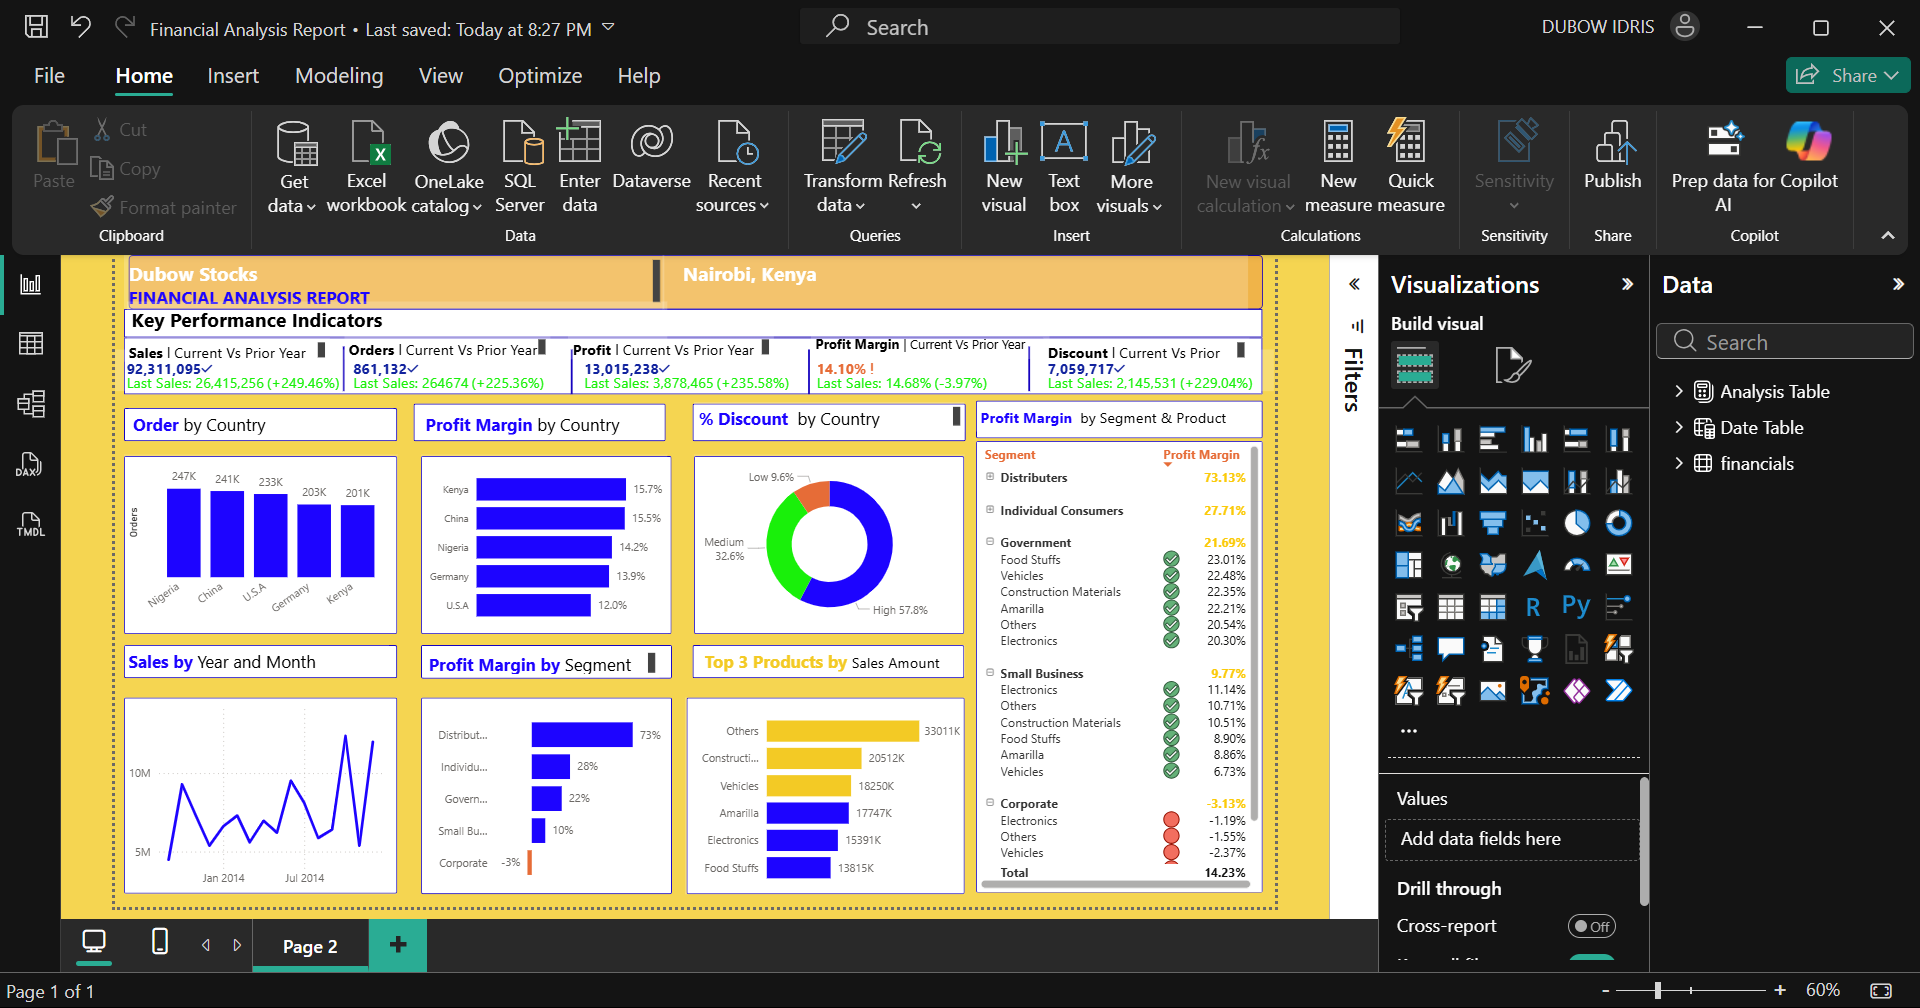

What the dashboard file says about the page in this screenshot:
{"tool":"powerbi","page":{"name":"Page 2","canvas":[1280,720],"ordinal":0},"visuals":[{"type":"shape","box":[950,206.1,316.7,498.9],"z":0},{"type":"shape","box":[14.3,0,1252.9,60],"z":1000},{"type":"shape","box":[10,60,1257.1,31.4],"z":2000},{"type":"shape","box":[10,221.7,301.7,196.7],"z":3000},{"type":"shape","box":[640,221.7,298.3,196.7],"z":4000},{"type":"shape","box":[10,488.3,301.7,216.7],"z":5000},{"type":"shape","box":[338.3,221.7,276.7,196.7],"z":6000},{"type":"shape","box":[631.4,488.6,307.1,217.1],"z":7000},{"type":"shape","box":[338.6,488.6,277.1,217.1],"z":8000},{"type":"shape","box":[10,91.4,1257.1,62.9],"z":9000},{"type":"shape","box":[10,430,301.7,36.7],"z":10000},{"type":"shape","box":[10,168.3,301.7,36.7],"z":11000},{"type":"shape","box":[638.3,163.3,301.7,41.7],"z":12000},{"type":"shape","box":[330,163.3,278.3,41.7],"z":13000},{"type":"shape","box":[338.6,430,277.1,37.1],"z":14000},{"type":"shape","box":[638.3,430,300,36.7],"z":15000},{"type":"textbox","box":[10,0,596.7,60],"z":16000},{"type":"textbox","box":[13.3,51.7,596.7,50],"z":17000},{"type":"kpi","fields":{"Indicator":["Analysis Table.Sales Amount"],"TrendLine":["Date Table.Year"],"Goal":["Analysis Table.Sales Amount Last Year"]},"box":[0,104.6,256.9,46.3],"z":18000},{"type":"textbox","box":[10.5,91.1,227.1,26.9],"z":19000},{"type":"shape","box":[237.5,101.6,31.4,49.3],"z":20000},{"type":"kpi","fields":{"Indicator":["Analysis Table.Orders"],"TrendLine":["Date Table.Year"],"Goal":["Analysis Table.Orders Last Year"]},"box":[249.8,104.6,262.9,46.3],"z":21000},{"type":"kpi","fields":{"Indicator":["Analysis Table.Profit"],"TrendLine":["Date Table.Year"],"Goal":["Analysis Table.Profit Last Year"]},"box":[505.6,104.6,262.9,46.3],"z":22000},{"type":"kpi","fields":{"TrendLine":["Date Table.Year"],"Indicator":["Analysis Table.Profit Margin"],"Goal":["Analysis Table.Profit Margin Last Year"]},"box":[761.5,104.6,262.9,46.3],"z":23000},{"type":"kpi","fields":{"Indicator":["Analysis Table.Total Discount Offered"],"TrendLine":["Date Table.Year"],"Goal":["Analysis Table.Discount Offered Margin Last Year"]},"box":[1017.1,104.6,262.9,46.3],"z":24000},{"type":"shape","box":[488.5,104.6,31.4,49.3],"z":25000},{"type":"shape","box":[993.4,101.6,31.4,49.3],"z":26000},{"type":"shape","box":[754.4,104.6,25.4,49.3],"z":27000},{"type":"textbox","box":[252.9,87.1,227.1,27.1],"z":28000},{"type":"textbox","box":[500,87.1,227.1,27.1],"z":29000},{"type":"textbox","box":[768.3,83.3,263.3,31.7],"z":30000},{"type":"textbox","box":[1024.7,91.1,227.1,26.9],"z":31000},{"type":"textbox","box":[14.9,168.8,292.8,34.4],"z":32000},{"type":"textbox","box":[337.6,168.8,267.4,34.4],"z":33000},{"type":"textbox","box":[639.3,162.8,298.8,32.9],"z":34000},{"type":"shape","box":[950,161.3,316.7,41.8],"z":35000},{"type":"textbox","box":[950,162.8,301.7,32.9],"z":36000},{"type":"columnChart","fields":{"Category":["financials.Country"],"Y":["Analysis Table.Orders"]},"box":[10.5,221.1,301.7,197.2],"z":37000},{"type":"barChart","fields":{"Category":["financials.Country"],"Y":["Analysis Table.Profit Margin"]},"box":[337.6,221.1,271.9,197.2],"z":38000},{"type":"donutChart","fields":{"Category":["financials.Discount Band"],"Y":["Analysis Table.Total Discount Offered"]},"box":[639.3,221.1,298.8,197.2],"z":39000},{"type":"textbox","box":[10.5,430.2,292.8,34.4],"z":40000},{"type":"textbox","box":[341.7,433.3,260,33.3],"z":41000},{"type":"textbox","box":[646.8,430.2,292.8,34.4],"z":42000},{"type":"barChart","fields":{"Category":["financials.Segment"],"Y":["Analysis Table.Profit Margin"]},"box":[338.6,488.6,275.7,215.7],"z":43000},{"type":"lineChart","fields":{"Category":["Date Table.Date.Variation.Date Hierarchy.Year","Date Table.Date.Variation.Date Hierarchy.Month"],"Y":["Analysis Table.Sales Amount"]},"box":[10,488.6,301.4,217.1],"z":44000},{"type":"barChart","fields":{"Y":["Analysis Table.Sales Amount"],"Category":["financials.Product"]},"box":[630,488.6,308.6,217.1],"z":45000},{"type":"pivotTable","fields":{"Rows":["financials.Segment","financials.Product"],"Values":["Analysis Table.Profit Margin"]},"box":[950,206.1,316.7,498.9],"z":46000},{"type":"textbox","box":[605,0,646.7,60],"z":47000}]}

Visuals, with their boxes on the page's 1280x720 design canvas (x1, y1, x2, y2). These are canvas units, not pixel positions in the 1920x1008 screenshot, which may show the page scaled, cropped or inside an application window:
shape: crop(950, 206, 1267, 705)
shape: crop(14, 0, 1267, 60)
shape: crop(10, 60, 1267, 91)
shape: crop(10, 222, 312, 418)
shape: crop(640, 222, 938, 418)
shape: crop(10, 488, 312, 705)
shape: crop(338, 222, 615, 418)
shape: crop(631, 489, 938, 706)
shape: crop(339, 489, 616, 706)
shape: crop(10, 91, 1267, 154)
shape: crop(10, 430, 312, 467)
shape: crop(10, 168, 312, 205)
shape: crop(638, 163, 940, 205)
shape: crop(330, 163, 608, 205)
shape: crop(339, 430, 616, 467)
shape: crop(638, 430, 938, 467)
textbox: crop(10, 0, 607, 60)
textbox: crop(13, 52, 610, 102)
kpi - Analysis Table.Sales Amount x Date Table.Year: crop(0, 105, 257, 151)
textbox: crop(10, 91, 238, 118)
shape: crop(238, 102, 269, 151)
kpi - Analysis Table.Orders x Date Table.Year: crop(250, 105, 513, 151)
kpi - Analysis Table.Profit x Date Table.Year: crop(506, 105, 768, 151)
kpi - Date Table.Year x Analysis Table.Profit Margin: crop(762, 105, 1024, 151)
kpi - Analysis Table.Total Discount Offered x Date Table.Year: crop(1017, 105, 1280, 151)
shape: crop(488, 105, 520, 154)
shape: crop(993, 102, 1025, 151)
shape: crop(754, 105, 780, 154)
textbox: crop(253, 87, 480, 114)
textbox: crop(500, 87, 727, 114)
textbox: crop(768, 83, 1032, 115)
textbox: crop(1025, 91, 1252, 118)
textbox: crop(15, 169, 308, 203)
textbox: crop(338, 169, 605, 203)
textbox: crop(639, 163, 938, 196)
shape: crop(950, 161, 1267, 203)
textbox: crop(950, 163, 1252, 196)
columnChart - financials.Country x Analysis Table.Orders: crop(10, 221, 312, 418)
barChart - financials.Country x Analysis Table.Profit Margin: crop(338, 221, 610, 418)
donutChart - financials.Discount Band x Analysis Table.Total Discount Offered: crop(639, 221, 938, 418)
textbox: crop(10, 430, 303, 465)
textbox: crop(342, 433, 602, 467)
textbox: crop(647, 430, 940, 465)
barChart - financials.Segment x Analysis Table.Profit Margin: crop(339, 489, 614, 704)
lineChart - Date Table.Date.Variation.Date Hierarchy.Year x Date Table.Date.Variation.Date Hierarchy.Month: crop(10, 489, 311, 706)
barChart - Analysis Table.Sales Amount x financials.Product: crop(630, 489, 939, 706)
pivotTable - financials.Segment x financials.Product: crop(950, 206, 1267, 705)
textbox: crop(605, 0, 1252, 60)
